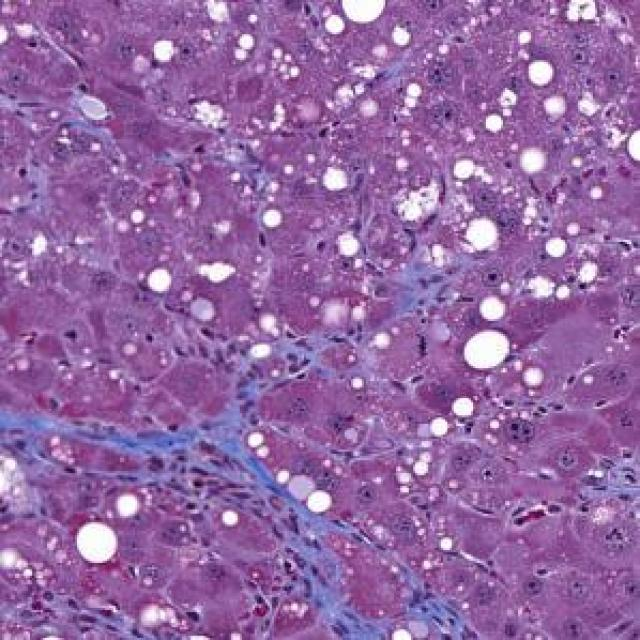fibrosis: (175, 428, 372, 584)
